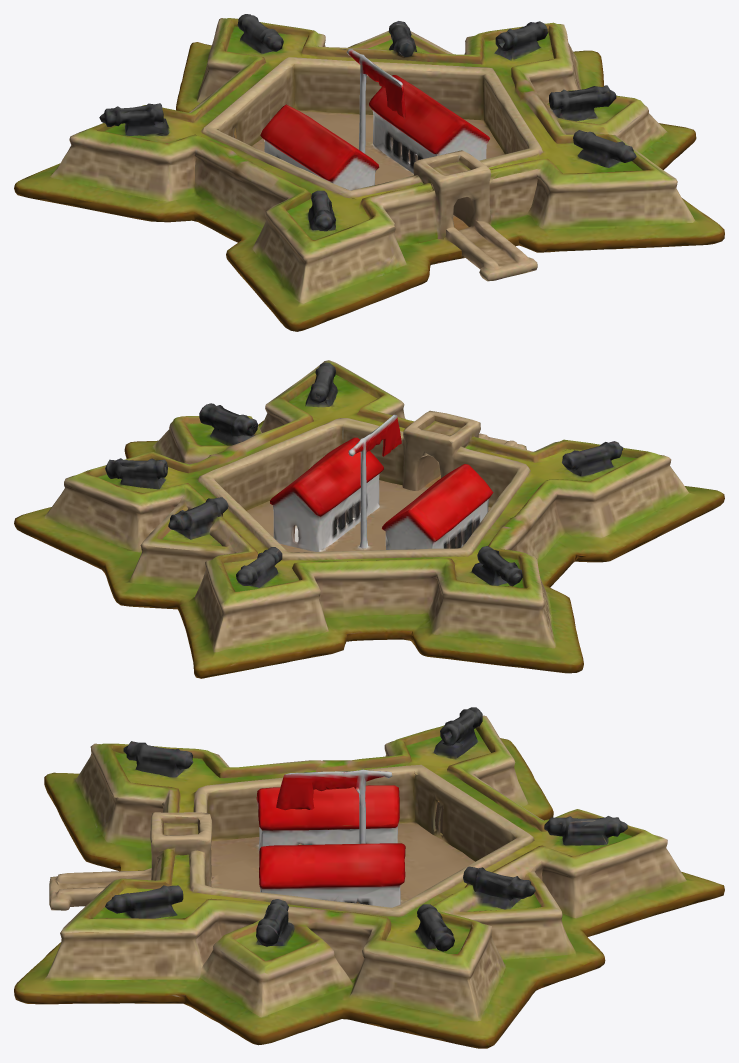
Rendered from starfort_a.glb.
3 views of the same model, one above another, from view 1: azimuth 30°, elevation 25°; view 2: azimuth 150°, elevation 25°; view 3: azimuth 270°, elevation 25° (orthographic). The views are drawn at different scales.
Visible parts, largest first — view 1: world; view 2: world; view 3: world.
Boxes of the visible parts, <box> form: world: <box>14,14,724,331</box>; world: <box>14,360,724,678</box>; world: <box>14,707,724,1048</box>.
Size of the model in its own units: 1 by 0.196 by 0.9939.
1 material, 1 textured.
